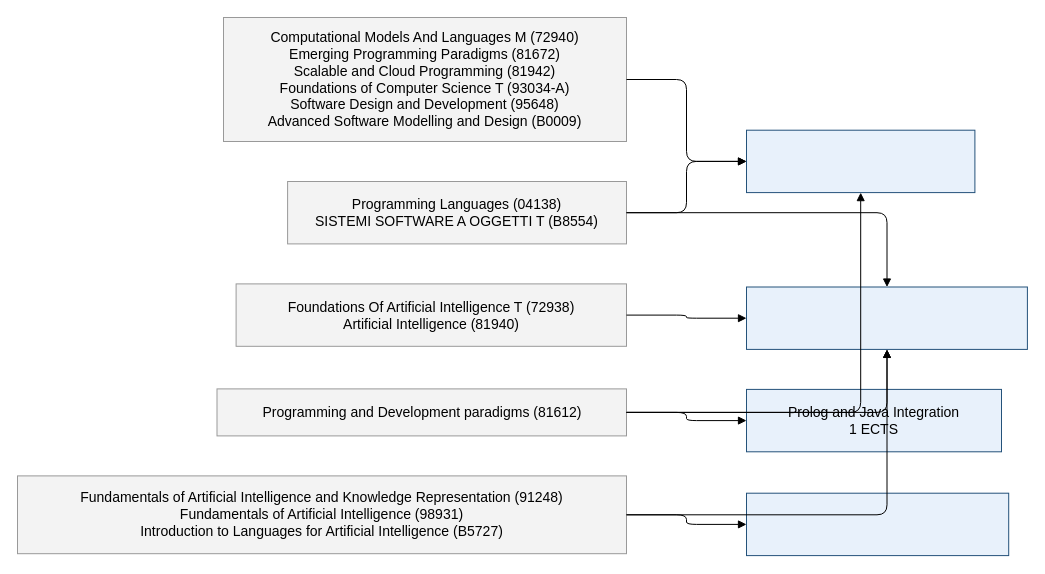
This 1045x574 diagram has some shape labels left out. The shapes that lost their labels are listed below. From the top down, each one's centre as x and y in pixels, then its label:
At pixel 860 161: "Functional Programming 3 ECTS".
At pixel 886 317: "Logic Programming Foundations 2 ECTS".
At pixel 877 524: "Advanced Logic Programming 2 ECTS".
